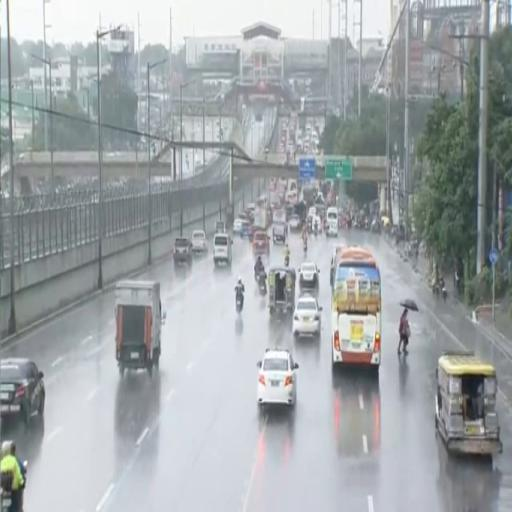bus: (332, 247, 381, 371)
car: (0, 358, 45, 425), (258, 348, 298, 408), (292, 296, 321, 338), (213, 233, 232, 266), (299, 262, 319, 289), (173, 237, 191, 264), (253, 230, 269, 253), (192, 231, 207, 252), (234, 219, 250, 237), (289, 215, 301, 231), (312, 215, 322, 233), (233, 218, 243, 234), (215, 220, 226, 233)
jeepney: (436, 352, 502, 455)
motorcycle: (0, 474, 11, 511), (258, 271, 266, 295), (455, 271, 462, 296), (439, 280, 447, 301), (236, 292, 243, 313), (432, 282, 439, 298), (441, 285, 447, 301), (303, 239, 307, 254), (285, 255, 289, 267), (314, 224, 317, 236)
truck: (115, 281, 165, 376), (273, 210, 287, 243), (254, 206, 268, 230)
